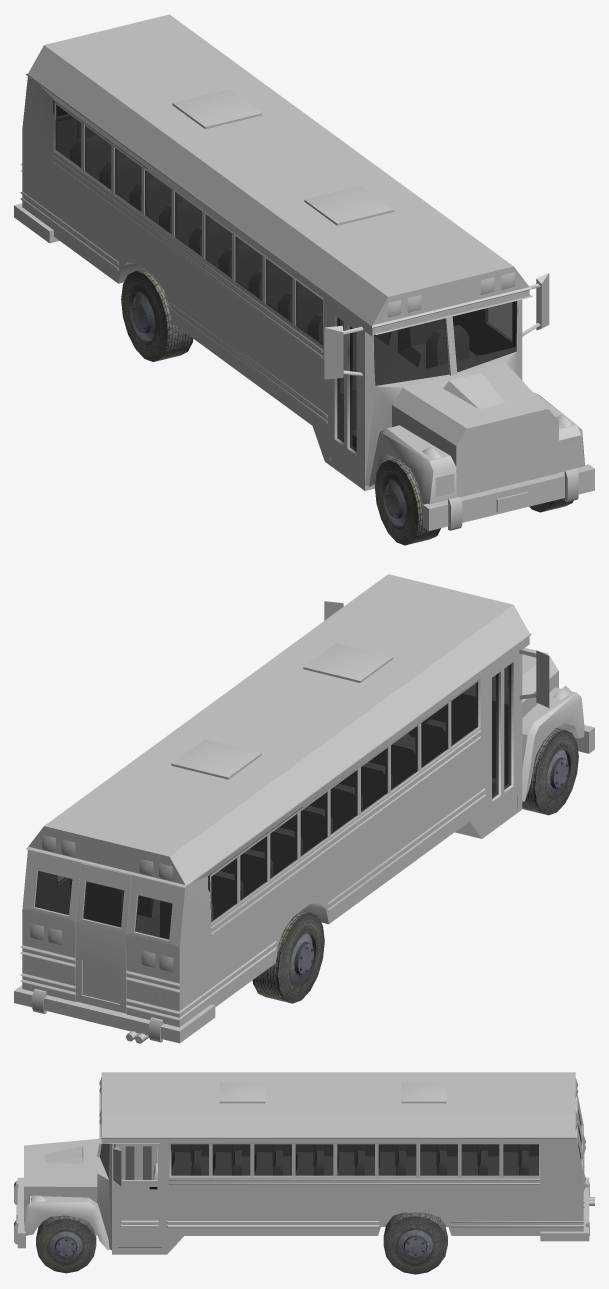
File: Bus.FBX
3 renders of one model, top to bottom at view 1: azimuth 30°, elevation 25°; view 2: azimuth 150°, elevation 25°; view 3: azimuth 270°, elevation 25°, orthographic. The views are drawn at different scales.
Visible parts, largest first — view 1: Body, BR, MainDoor, FR, Object003; view 2: Body, MainDoor, BR, FR; view 3: Body, BL, Object003, FL, MainDoor.
Boxes of the visible parts, bbox=[...] form: Body: bbox=[14, 14, 594, 530]; BR: bbox=[121, 269, 193, 361]; MainDoor: bbox=[330, 306, 359, 481]; FR: bbox=[374, 458, 440, 545]; Object003: bbox=[483, 301, 514, 354]; Body: bbox=[14, 574, 594, 1043]; MainDoor: bbox=[487, 654, 516, 829]; BR: bbox=[252, 910, 324, 1003]; FR: bbox=[522, 728, 578, 815]; Body: bbox=[14, 1072, 594, 1254]; BL: bbox=[383, 1212, 447, 1274]; Object003: bbox=[118, 1145, 161, 1246]; FL: bbox=[36, 1215, 96, 1273]; MainDoor: bbox=[120, 1146, 157, 1179].
Bounding box in the file's own units: 15.96 × 15.74 × 51.84.
